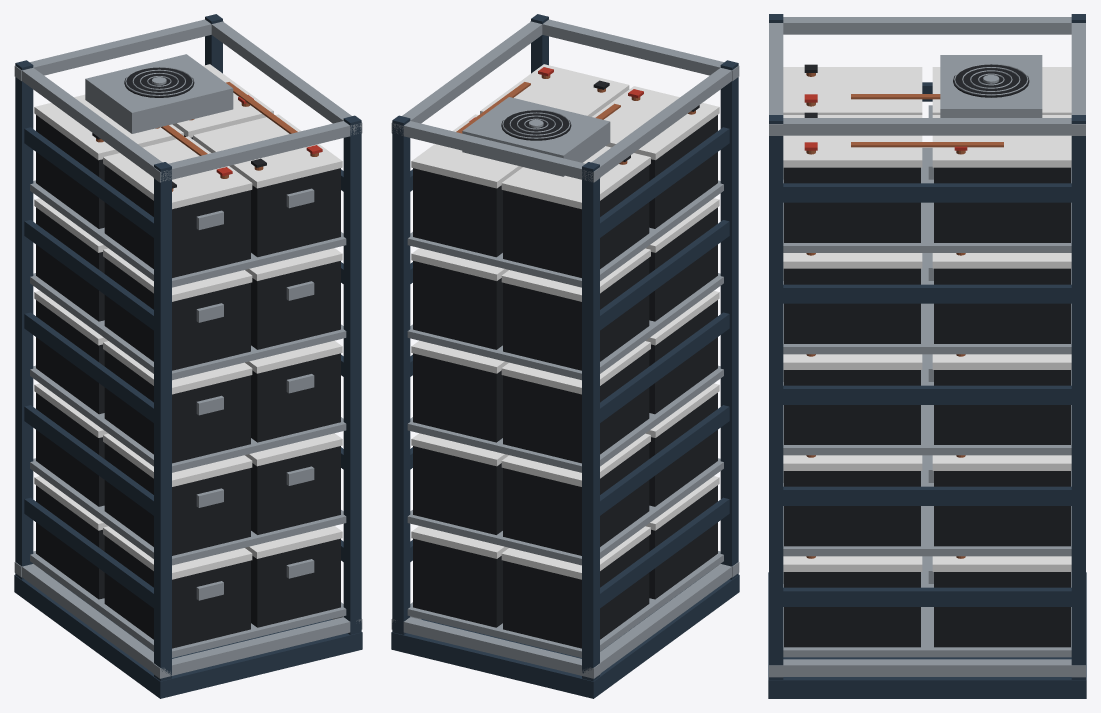
Rendered from battery-rack.glb.
The picture shows the model from 3 angles, left to right: view 1: azimuth 30°, elevation 25°; view 2: azimuth 150°, elevation 25°; view 3: azimuth 270°, elevation 25°; orthographic projection. The views are drawn at different scales.
Parts seen in each view (by area): view 1: merged_dark, merged_frame, merged_metal, merged_white, merged_copper; view 2: merged_dark, merged_frame, merged_metal, merged_white, merged_copper; view 3: merged_dark, merged_frame, merged_metal, merged_white, merged_copper.
Boxes of the visible parts, box(x1,y1,x2,y2) form: merged_dark: box(36, 67, 340, 648); merged_frame: box(14, 14, 362, 698); merged_metal: box(14, 19, 362, 678); merged_white: box(34, 64, 342, 579); merged_copper: box(96, 82, 318, 191); merged_dark: box(413, 80, 717, 648); merged_frame: box(391, 14, 739, 698); merged_metal: box(391, 19, 739, 678); merged_white: box(411, 64, 719, 579); merged_copper: box(456, 75, 695, 164); merged_dark: box(784, 64, 1070, 647); merged_frame: box(768, 14, 1086, 698); merged_metal: box(769, 17, 1085, 677); merged_white: box(783, 67, 1071, 571); merged_copper: box(806, 73, 1003, 558).
Bounding box in the file's own units: 0.8 × 2 × 1.
